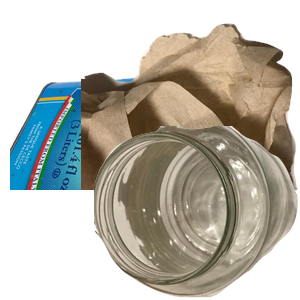glass: (94, 126, 300, 300)
metal: (10, 64, 250, 244)
plastic: (99, 120, 289, 300)
trash: (81, 21, 300, 201)
